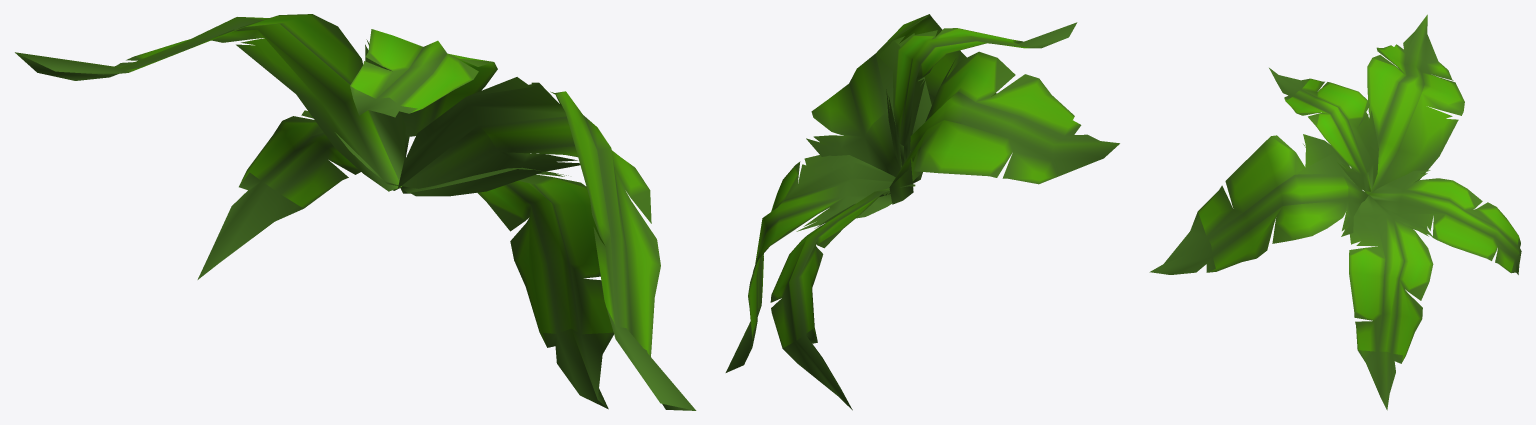
Rendered from FX_PalmFallingLeaves_02.fbx.
3 renders of one model, left to right at view 1: azimuth 30°, elevation 25°; view 2: azimuth 150°, elevation 25°; view 3: azimuth 270°, elevation 25°, orthographic. The views are drawn at different scales.
Parts seen in each view (by area): view 1: M_Palm_02.002, M_Palm_02.006, M_Palm_02.004, M_Palm_02.005, M_Palm_02.003; view 2: M_Palm_02.004, M_Palm_02.002, M_Palm_02.006, M_Palm_02.005, M_Palm_02.003; view 3: M_Palm_02.002, M_Palm_02.006, M_Palm_02.004, M_Palm_02.005, M_Palm_02.003.
Part boxes in pixels (x1=…): M_Palm_02.002: x1=398, y1=77, x2=696, y2=410; M_Palm_02.006: x1=393, y1=167, x2=613, y2=409; M_Palm_02.004: x1=15, y1=14, x2=405, y2=191; M_Palm_02.005: x1=197, y1=110, x2=410, y2=279; M_Palm_02.003: x1=350, y1=29, x2=497, y2=161; M_Palm_02.004: x1=889, y1=51, x2=1119, y2=204; M_Palm_02.002: x1=806, y1=14, x2=996, y2=183; M_Palm_02.006: x1=725, y1=155, x2=895, y2=372; M_Palm_02.005: x1=770, y1=184, x2=915, y2=410; M_Palm_02.003: x1=886, y1=22, x2=1077, y2=168; M_Palm_02.002: x1=1149, y1=134, x2=1368, y2=274; M_Palm_02.006: x1=1349, y1=194, x2=1434, y2=410; M_Palm_02.004: x1=1351, y1=14, x2=1464, y2=194; M_Palm_02.005: x1=1368, y1=170, x2=1521, y2=274; M_Palm_02.003: x1=1269, y1=68, x2=1378, y2=191.
Bounding box in the file's own units: 411 × 345 × 442.
